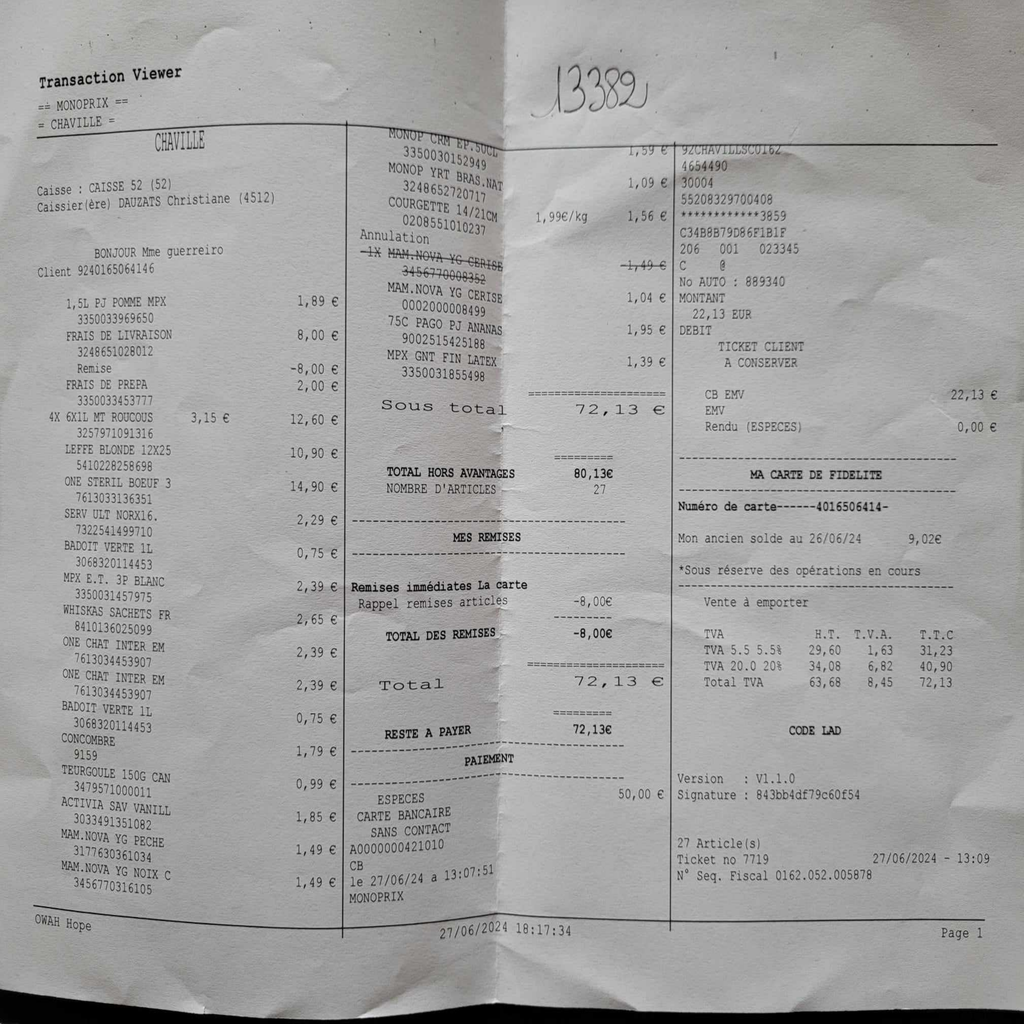recipt: (2, 0, 1018, 1011)
